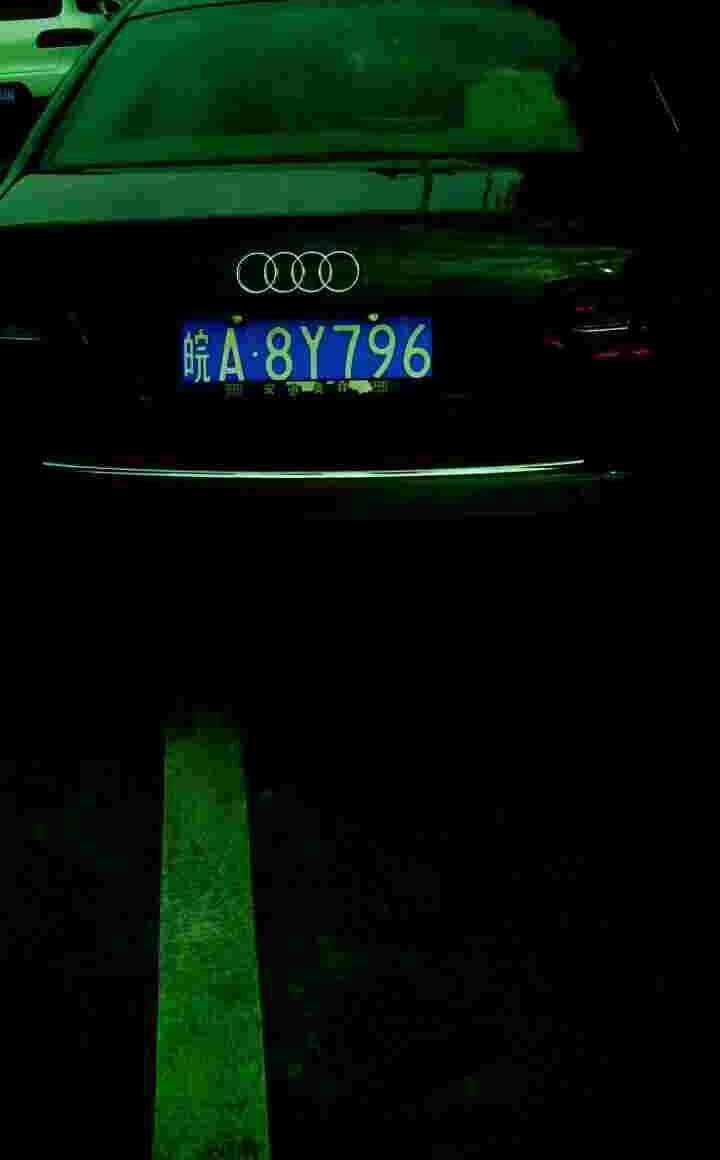plate: (176, 305, 445, 401)
